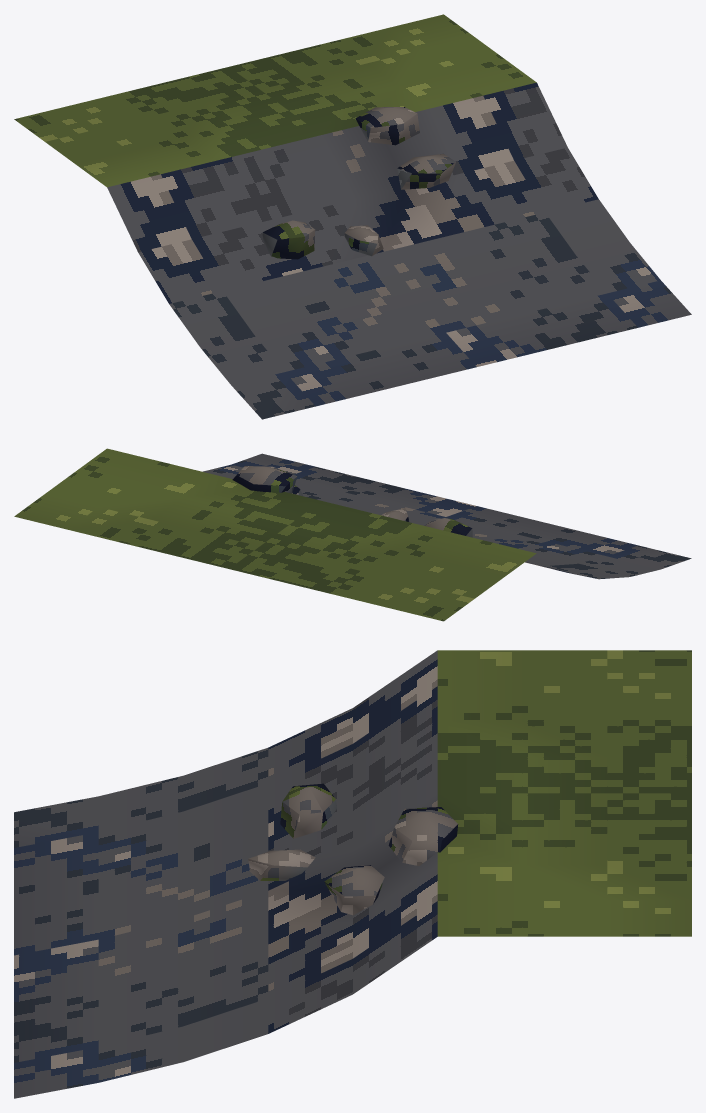
Rendered from lake.shore.glb.
3 views of the same model, one above another, from view 1: azimuth 30°, elevation 25°; view 2: azimuth 150°, elevation 25°; view 3: azimuth 270°, elevation 25° (orthographic). The views are drawn at different scales.
Parts seen in each view (by area): view 1: kit_shell_bank, kit_stones; view 2: kit_shell_bank, kit_stones; view 3: kit_shell_bank, kit_stones.
Boxes of the visible parts, x1,y1,x2,y2 form: kit_shell_bank: [14, 14, 691, 419]; kit_stones: [262, 107, 455, 259]; kit_shell_bank: [14, 448, 691, 621]; kit_stones: [232, 466, 472, 537]; kit_shell_bank: [14, 650, 691, 1098]; kit_stones: [248, 783, 458, 915].
Size of the model in its own units: 4 by 1.19 by 4.
4 materials, 4 textured.
